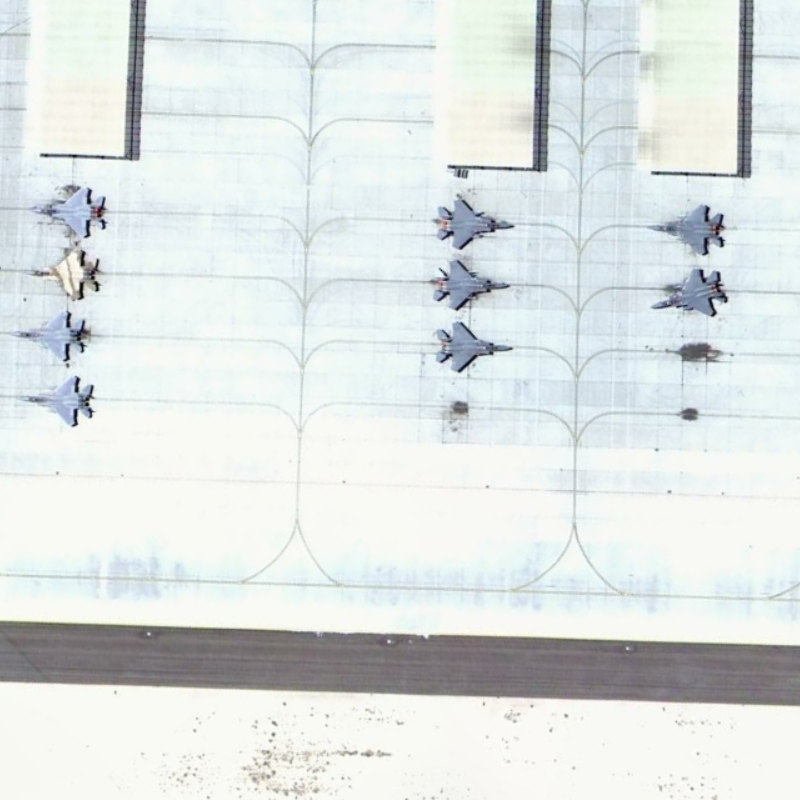A13: (643, 194, 736, 265), (641, 264, 739, 329), (18, 233, 106, 305), (425, 252, 515, 318), (8, 307, 98, 371), (427, 189, 518, 252), (9, 369, 99, 431), (432, 314, 517, 378), (32, 182, 115, 239)
